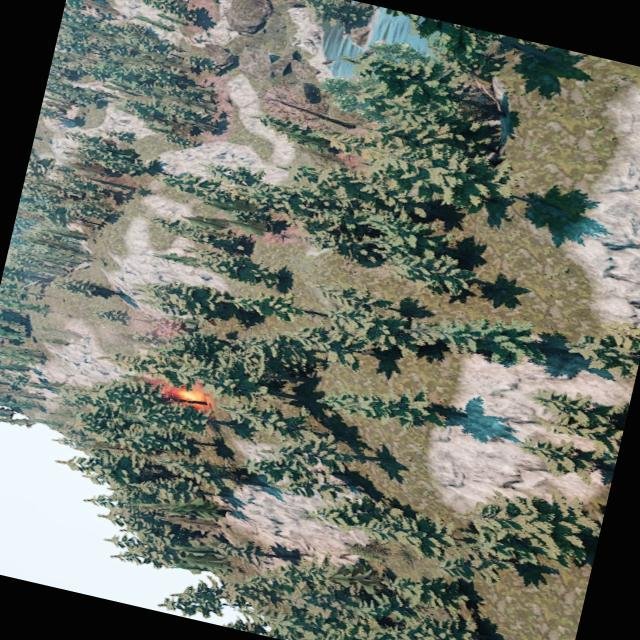fire: (172, 382, 211, 408)
